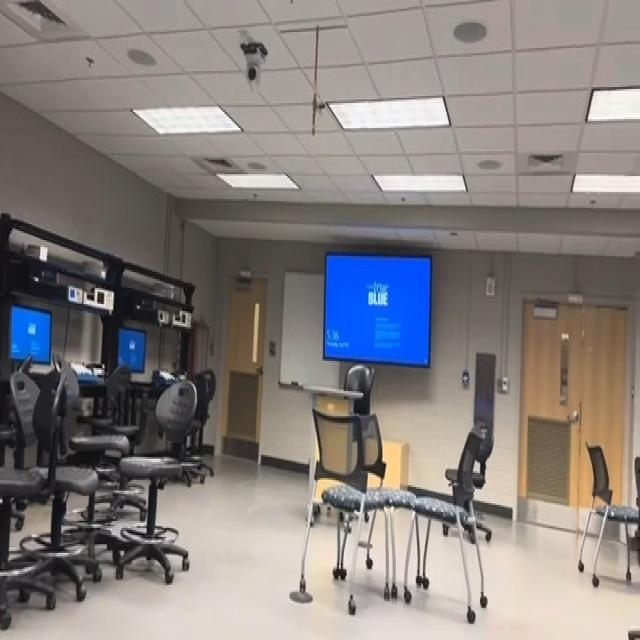drone: (470, 414, 504, 470)
